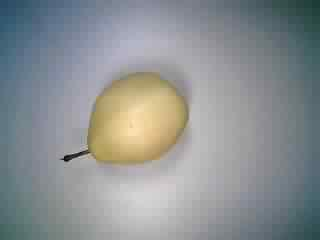pear: (51, 65, 199, 172)
